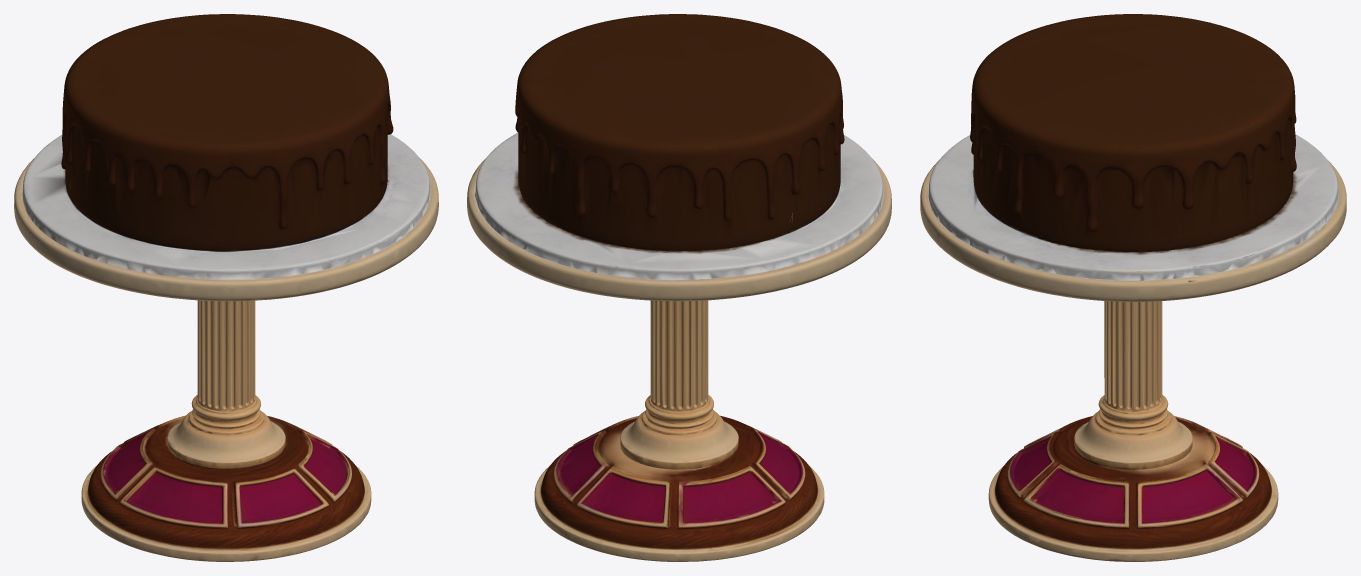
File: cake_b.glb
The picture shows the model from 3 angles, left to right: view 1: azimuth 30°, elevation 25°; view 2: azimuth 150°, elevation 25°; view 3: azimuth 270°, elevation 25°; orthographic projection.
Visible parts, largest first — view 1: material; view 2: material; view 3: material.
Boxes of the visible parts, x1,y1,x2,y2 form: material: (14,14,438,561); material: (467,14,891,561); material: (920,14,1346,561).
Bounding box in the file's own units: 0.9128 × 0.9977 × 0.9129.
Materials: 1 (1 with a texture image).
